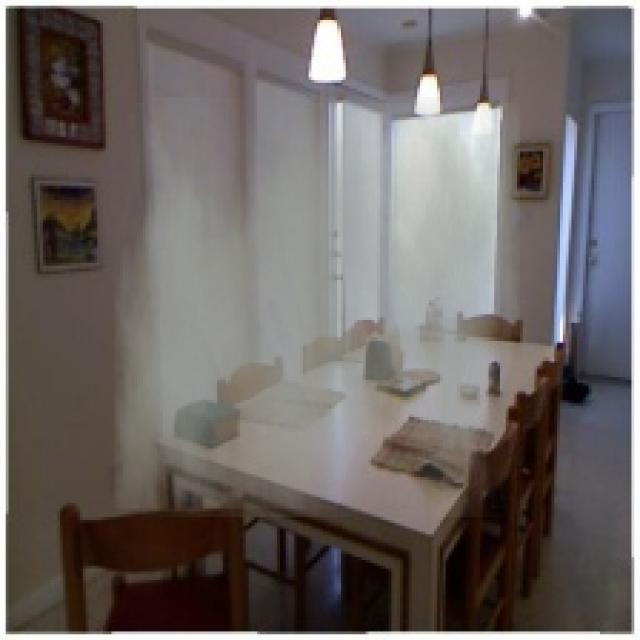smoke: (114, 97, 520, 517)
